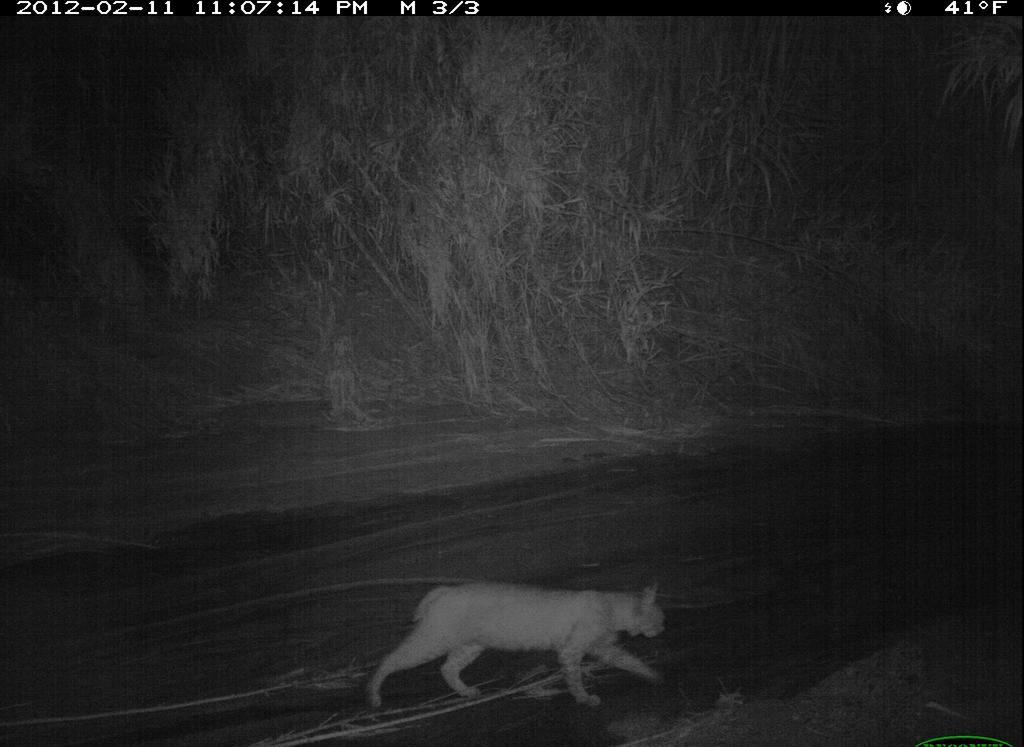bobcat: (347, 557, 705, 715)
